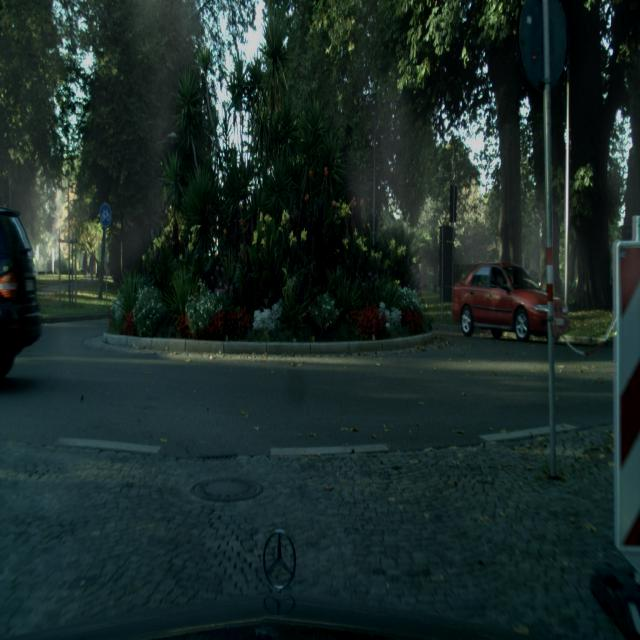bus: (449, 260, 569, 341), (4, 205, 42, 386)
